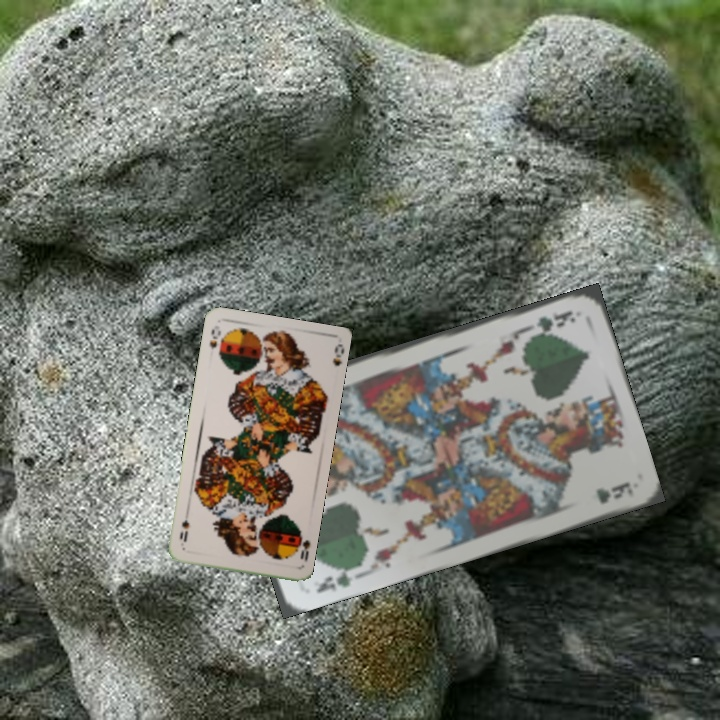GK: (525, 306, 578, 339), (312, 563, 356, 596)
SO: (292, 526, 312, 565), (205, 325, 223, 352)
